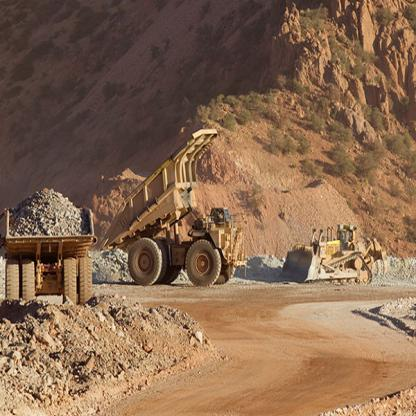bull_dozer/loader/grader: (278, 218, 392, 296)
dump_truck: (102, 121, 245, 285), (4, 183, 99, 316)
